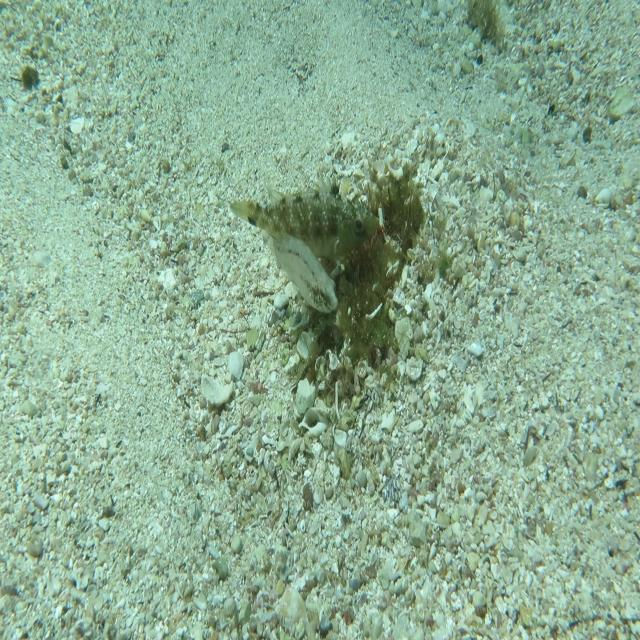FAN: (229, 170, 381, 263)
core_nest: (367, 196, 414, 252)
female: (261, 226, 340, 315)
nest: (280, 141, 440, 408)
